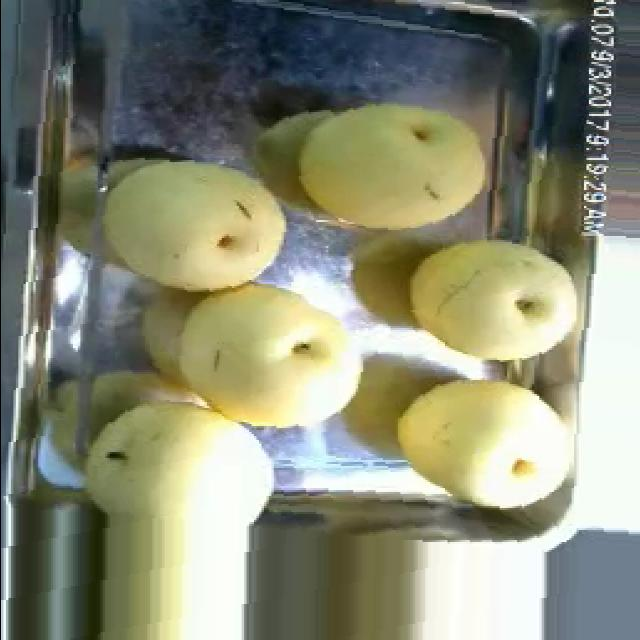Fruit: (67, 386, 278, 640), (89, 142, 303, 306), (166, 270, 370, 442), (286, 82, 494, 246), (384, 368, 570, 524), (397, 224, 590, 370)
